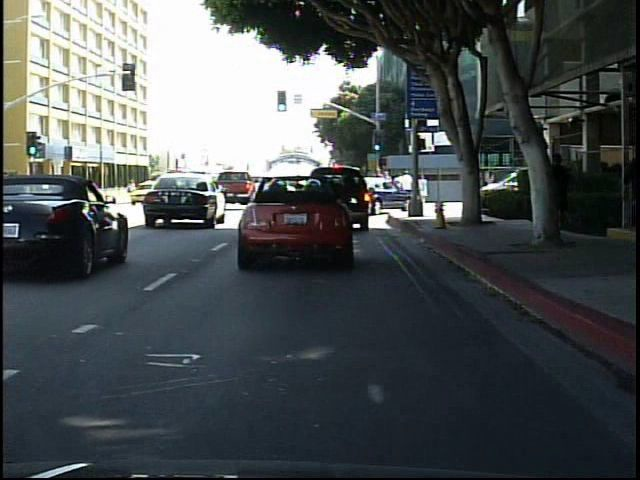person: (538, 147, 569, 238), (126, 176, 138, 197)
